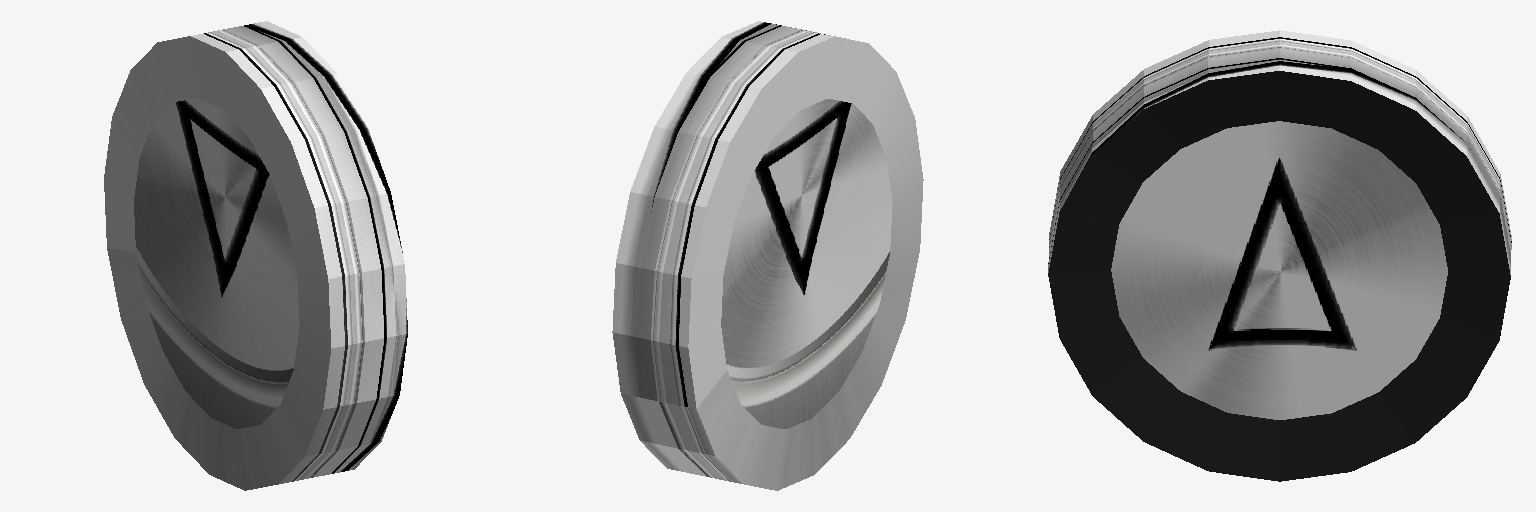
3 views of the same model, side by side, from view 1: azimuth 30°, elevation 25°; view 2: azimuth 150°, elevation 25°; view 3: azimuth 270°, elevation 25° (orthographic).
Visible parts, largest first — view 1: pointerup:pCylinder9; view 2: pointerup:pCylinder9; view 3: pointerup:pCylinder9.
Boxes of the visible parts, <box> form: pointerup:pCylinder9: <box>104,21,407,490</box>; pointerup:pCylinder9: <box>612,21,923,490</box>; pointerup:pCylinder9: <box>1048,30,1511,481</box>.
Bounding box in the file's own units: 19.41 × 84.24 × 83.81.
3 materials, 1 textured.